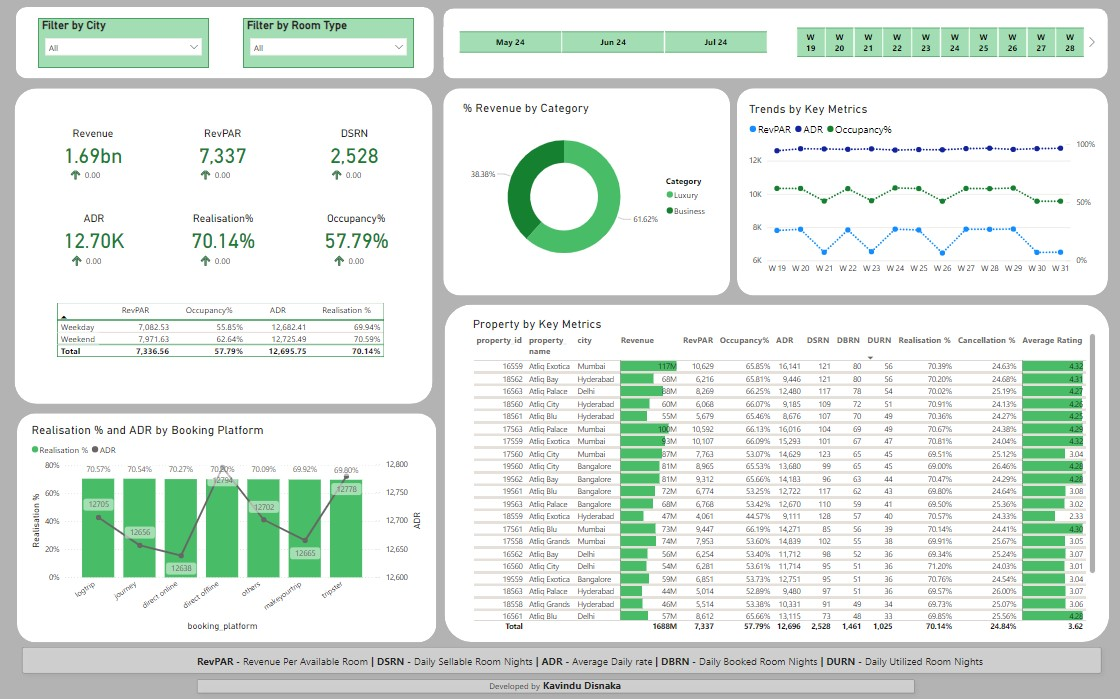

This screenshot's page, from the dashboard's own definition file:
{"tool":"powerbi","page":{"name":"Page 1","canvas":[1800,1129],"ordinal":0},"visuals":[{"type":"shape","box":[30.7,15.9,669.1,114.3],"z":0,"group":"g4"},{"type":"group","id":"g1","title":"Group 7","box":[27.8,145.4,669.1,505],"z":0,"group":"g8"},{"type":"shape","box":[27.8,145.4,669.1,505],"z":0,"group":"g1"},{"type":"shape","box":[715.2,491.8,1063.5,540],"z":0},{"type":"shape","box":[31.3,665,670.9,366.8],"z":1000},{"type":"shape","box":[1183.3,145.3,593.5,331.8],"z":2000},{"type":"shape","box":[713.3,145.3,459,331.8],"z":3000},{"type":"tableEx","title":"Property by Key Metrics","fields":{"Values":["dim_hotels.property_id","dim_hotels.property_name","dim_hotels.city","key_measures.Revenue","key_measures.RevPAR","key_measures.Occupancy%","key_measures.ADR","key_measures.DSRN","key_measures.DBRN","key_measures.DURN","key_measures.Realisation %","key_measures.Cancellation %"]},"box":[755.7,512.4,1006.4,506.9],"z":4000},{"type":"donutChart","title":"% Revenue by Category","fields":{"Category":["dim_hotels.category"],"Y":["key_measures.Revenue"]},"box":[739.1,165.5,411,285.7],"z":5000},{"type":"tableEx","fields":{"Values":["key_measures.Revenue WoW change %"]},"box":[106.9,239.3,93.7,74.8],"z":5000,"group":"g2"},{"type":"tableEx","fields":{"Values":["dim_date.day_type","key_measures.RevPAR","key_measures.Occupancy%","key_measures.ADR","key_measures.Realisation %"]},"box":[89.5,484,538.2,121.6],"z":5000,"group":"g8"},{"type":"lineChart","title":"Trends by Key Metrics","fields":{"Category":["dim_date.mmm yy.Variation.Date Hierarchy.Month","dim_date.week no"],"Y":["key_measures.RevPAR","key_measures.ADR"],"Y2":["key_measures.Occupancy%"]},"box":[1198.1,167.4,564,283.8],"z":6000},{"type":"group","id":"g2","title":"Group 1","box":[92.3,206.7,122.9,107.4],"z":6000,"group":"g8"},{"type":"card","title":"Revenue","fields":{"Values":["key_measures.Revenue"]},"box":[92.3,206.7,122.9,70],"z":7000,"group":"g2"},{"type":"group","id":"g3","title":"Group 2","box":[307.5,207,105.8,107.4],"z":7000,"group":"g8"},{"type":"lineStackedColumnComboChart","title":"Realisation % and ADR by Booking Platform","fields":{"Category":["fact_bookings.booking_platform"],"Y":["key_measures.Realisation %"],"Y2":["key_measures.ADR"]},"box":[49.8,681.6,634.1,337.3],"z":7000},{"type":"group","id":"g4","title":"Group 7","box":[30.7,15.9,669.1,114.3],"z":8000},{"type":"group","id":"g5","title":"Group 3","box":[511.4,206.5,119.2,107.4],"z":8000,"group":"g8"},{"type":"tableEx","fields":{"Values":["key_measures.Revenue WoW change %"]},"box":[313.6,239.6,93.7,74.8],"z":8000,"group":"g3"},{"type":"group","id":"g6","title":"Group 8","box":[713.3,18.1,1063.5,112.4],"z":9000},{"type":"tableEx","fields":{"Values":["key_measures.Revenue WoW change %"]},"box":[524.2,239.1,93.7,74.8],"z":9000,"group":"g5"},{"type":"group","id":"g7","title":"Group 4","box":[93.9,343,121.6,108.2],"z":9000,"group":"g8"},{"type":"group","id":"g8","title":"Group 9","box":[27.8,145.4,669.1,505],"z":10000},{"type":"group","id":"g9","title":"Group 5","box":[300.8,343.2,119.2,108.2],"z":10000,"group":"g8"},{"type":"tableEx","fields":{"Values":["key_measures.Revenue WoW change %"]},"box":[527.3,377.4,93.7,74.8],"z":10000,"group":"g10"},{"type":"group","id":"g10","title":"Group 6","box":[503.6,342.8,141.1,109.4],"z":11000,"group":"g8"},{"type":"tableEx","fields":{"Values":["key_measures.Revenue WoW change %"]},"box":[107.9,376.4,93.7,74.8],"z":11000,"group":"g7"},{"type":"shape","box":[27.6,1028.5,1751,66.4],"z":11000},{"type":"tableEx","fields":{"Values":["key_measures.Revenue WoW change %"]},"box":[313.6,376.6,93.7,74.8],"z":12000,"group":"g9"},{"type":"textbox","box":[66,1046,1700,48],"z":12000},{"type":"shape","box":[308,1080,1172,46],"z":12001},{"type":"textbox","box":[558,1084,670,34],"z":12002},{"type":"slicer","title":"Filter by City","fields":{"Values":["dim_hotels.city"]},"box":[66.2,34.6,272.8,79.3],"z":13000,"group":"g4"},{"type":"card","title":"RevPAR","fields":{"Values":["key_measures.RevPAR"]},"box":[307.5,207,105.8,70],"z":13000,"group":"g3"},{"type":"slicer","title":"Filter by Room Type","fields":{"Values":["dim_rooms.room_class"]},"box":[393.8,34.3,272.8,79.3],"z":14000,"group":"g4"},{"type":"card","title":"DSRN","fields":{"Values":["key_measures.DSRN"]},"box":[511.4,206.5,119.2,70],"z":14000,"group":"g5"},{"type":"shape","box":[713.3,18.1,1063.5,112.4],"z":15000,"group":"g6"},{"type":"card","title":"Occupancy%","fields":{"Values":["key_measures.Occupancy%"]},"box":[503.6,342.8,141.1,70],"z":15000,"group":"g10"},{"type":"slicer","fields":{"Values":["dim_date.mmm yy"]},"box":[713.3,48.9,541.5,47.9],"z":16000,"group":"g6"},{"type":"card","title":"ADR","fields":{"Values":["key_measures.ADR"]},"box":[93.9,343,121.6,70],"z":16000,"group":"g7"},{"type":"slicer","fields":{"Values":["dim_date.week no"]},"box":[1252.7,42.7,509,60.8],"z":16500,"group":"g6"},{"type":"card","title":"Realisation%","fields":{"Values":["key_measures.Realisation %"]},"box":[300.8,343.2,119.2,70],"z":17000,"group":"g9"}]}

Visuals, with their boxes in screenshot pixels (x1, y1, x2, y2), scaled from the page's 1800x1129 canvas onto the 1120x699 screenshot:
shape: bbox=(19, 10, 435, 81)
"Group 7" group: bbox=(17, 90, 434, 403)
shape: bbox=(17, 90, 434, 403)
shape: bbox=(445, 304, 1107, 639)
shape: bbox=(19, 412, 437, 639)
shape: bbox=(736, 90, 1106, 295)
shape: bbox=(444, 90, 729, 295)
"Property by Key Metrics" tableEx: bbox=(470, 317, 1096, 631)
"% Revenue by Category" donutChart: bbox=(460, 102, 716, 279)
tableEx - key_measures.Revenue WoW change %: bbox=(67, 148, 125, 194)
tableEx - dim_date.day_type x key_measures.RevPAR: bbox=(56, 300, 391, 375)
"Trends by Key Metrics" lineChart: bbox=(745, 104, 1096, 279)
"Group 1" group: bbox=(57, 128, 134, 194)
"Revenue" card: bbox=(57, 128, 134, 171)
"Group 2" group: bbox=(191, 128, 257, 195)
"Realisation % and ADR by Booking Platform" lineStackedColumnComboChart: bbox=(31, 422, 426, 631)
"Group 7" group: bbox=(19, 10, 435, 81)
"Group 3" group: bbox=(318, 128, 392, 194)
tableEx - key_measures.Revenue WoW change %: bbox=(195, 148, 253, 195)
"Group 8" group: bbox=(444, 11, 1106, 81)
tableEx - key_measures.Revenue WoW change %: bbox=(326, 148, 384, 194)
"Group 4" group: bbox=(58, 212, 134, 279)
"Group 9" group: bbox=(17, 90, 434, 403)
"Group 5" group: bbox=(187, 212, 261, 279)
tableEx - key_measures.Revenue WoW change %: bbox=(328, 234, 386, 280)
"Group 6" group: bbox=(313, 212, 401, 280)
tableEx - key_measures.Revenue WoW change %: bbox=(67, 233, 125, 279)
shape: bbox=(17, 637, 1107, 678)
tableEx - key_measures.Revenue WoW change %: bbox=(195, 233, 253, 279)
textbox: bbox=(41, 648, 1099, 677)
shape: bbox=(192, 669, 921, 697)
textbox: bbox=(347, 671, 764, 692)
"Filter by City" slicer: bbox=(41, 21, 211, 71)
"RevPAR" card: bbox=(191, 128, 257, 171)
"Filter by Room Type" slicer: bbox=(245, 21, 415, 70)
"DSRN" card: bbox=(318, 128, 392, 171)
shape: bbox=(444, 11, 1106, 81)
"Occupancy%" card: bbox=(313, 212, 401, 256)
slicer - dim_date.mmm yy: bbox=(444, 30, 781, 60)
"ADR" card: bbox=(58, 212, 134, 256)
slicer - dim_date.week no: bbox=(779, 26, 1096, 64)
"Realisation%" card: bbox=(187, 212, 261, 256)
